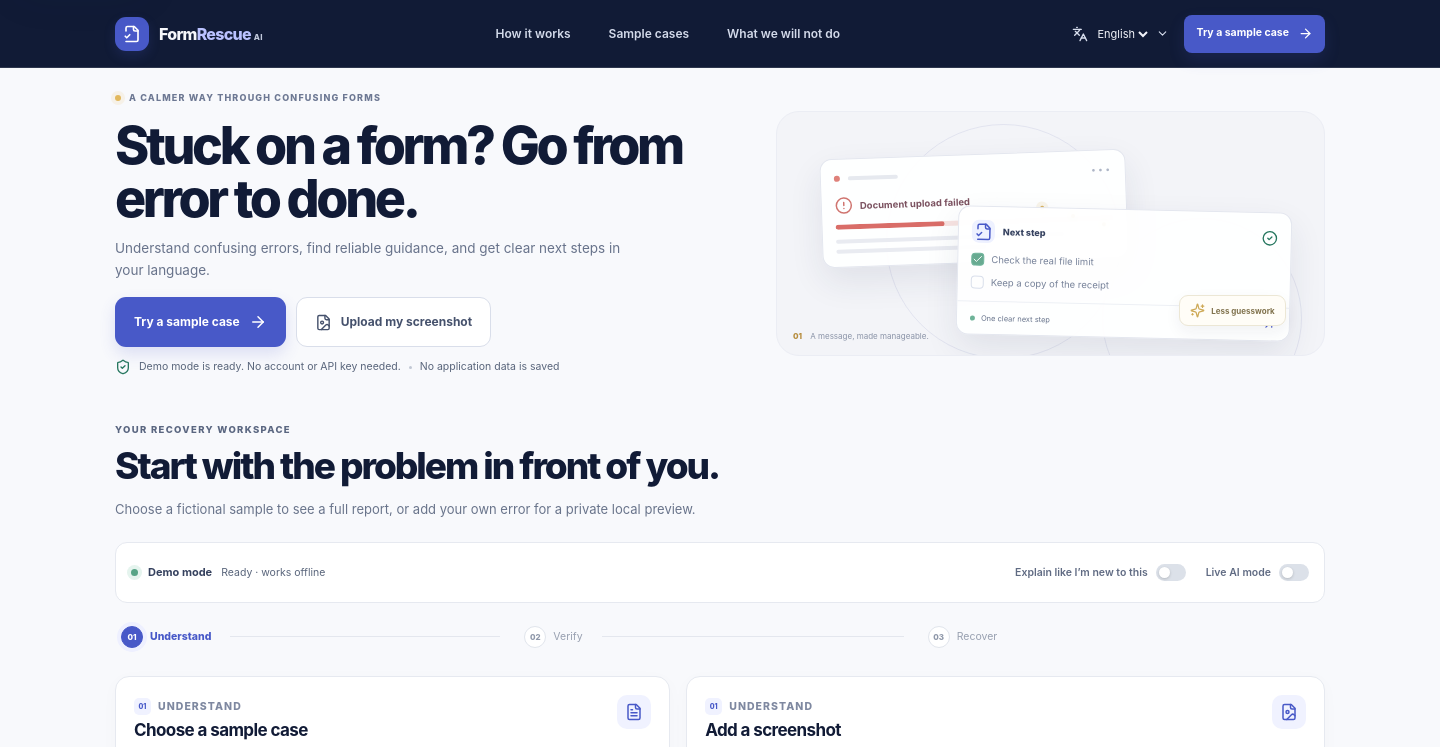
FormRescue user workflows › opens the complete report for cleargrid-address
The width and height of the screenshot is (1440, 747).
Click the button "Try a sample case" in the row of "Sample cases".
click(1255, 34)  # box [1184, 14, 1325, 52]
(page scrolled)
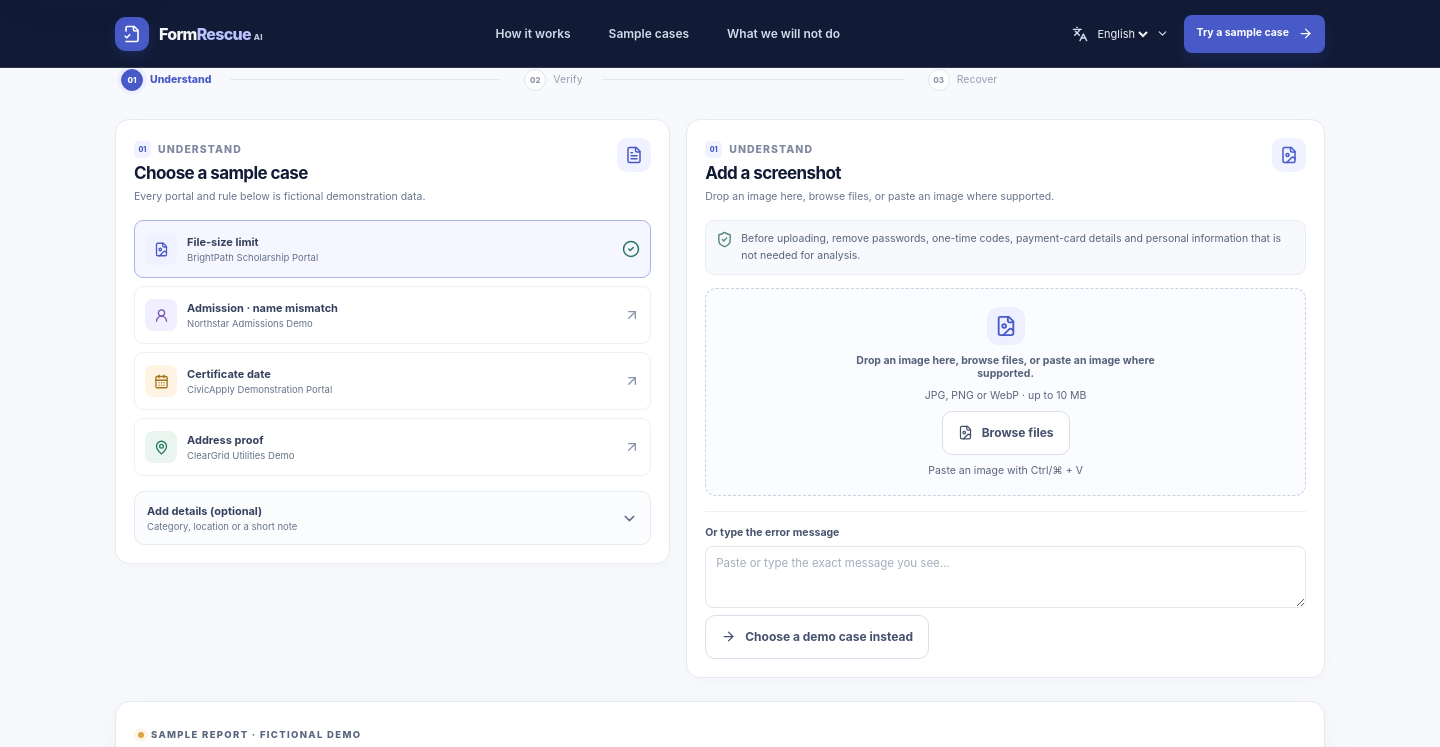
Click the button "Address proof ClearGrid Utilities Demo".
click(161, 447)  # box [134, 418, 651, 476]
(page scrolled)
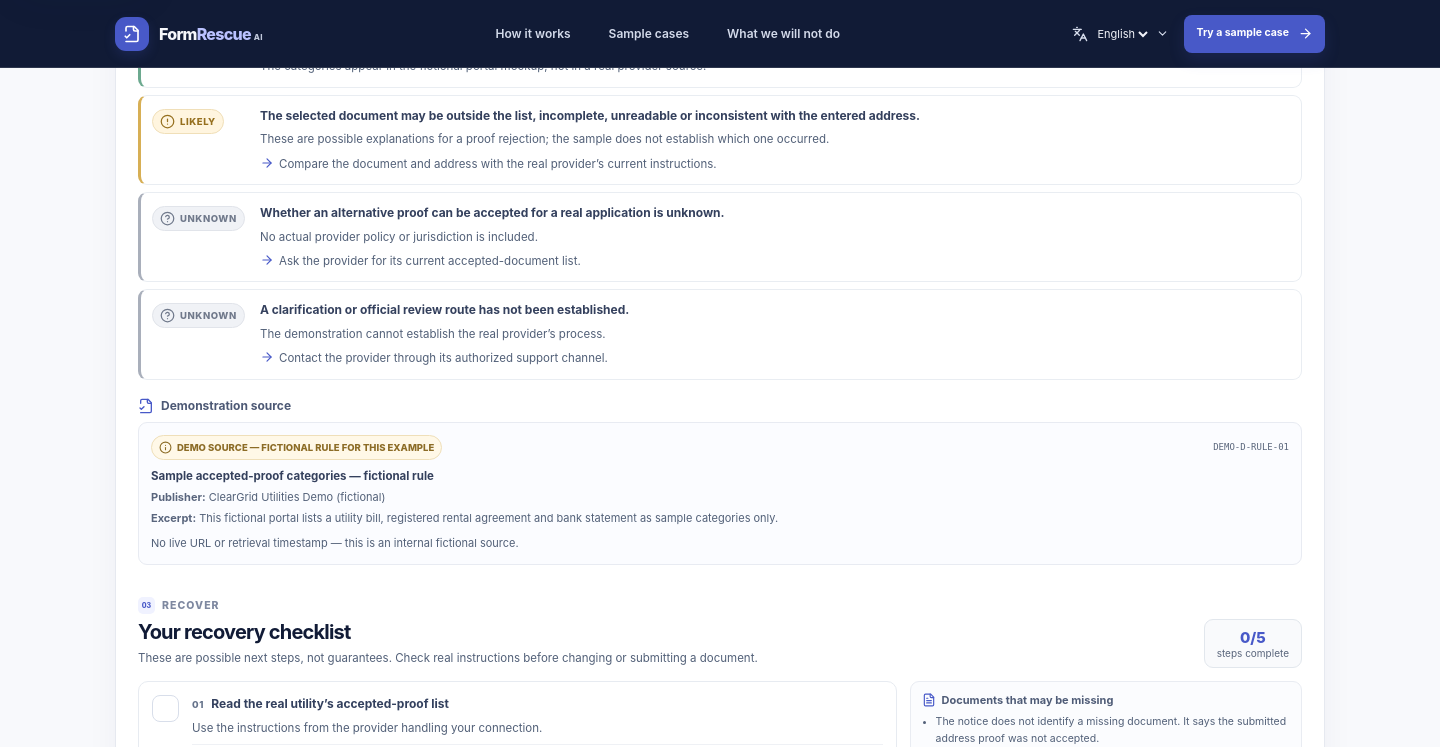
expect the text "DEMO SOURCE — FICTIONAL RULE FOR THIS EXAMPLE" is shown: met, box [151, 435, 442, 460]
expect the text "DEMO-D-RULE-01" is shown: met, box [1213, 442, 1289, 452]
